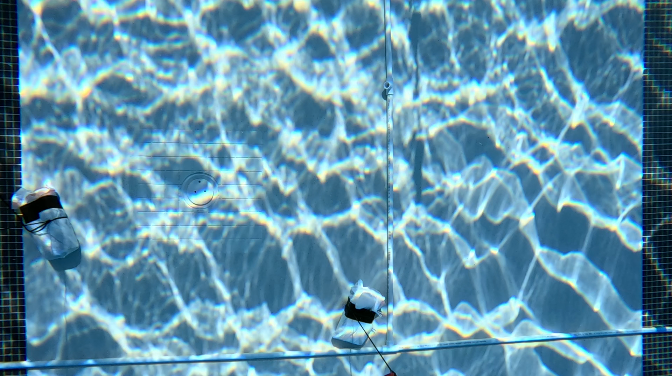sandbag: (11, 187, 83, 257), (332, 283, 383, 346)
